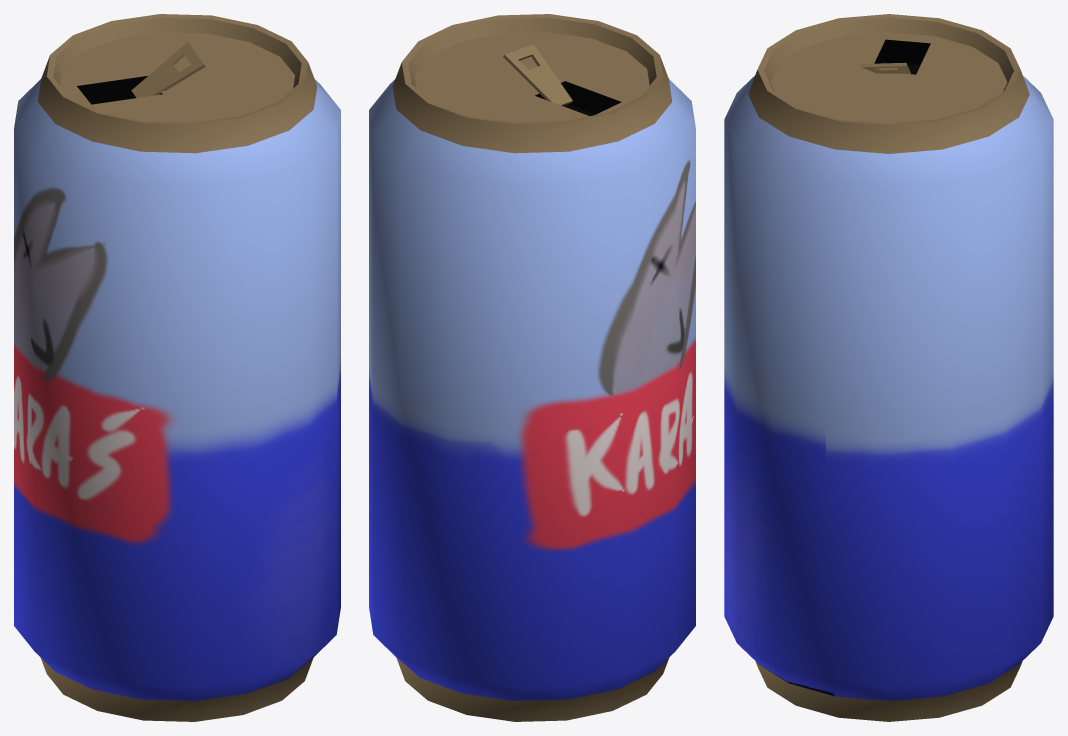
Rendered from speed.fbx.
3 renders of one model, left to right at view 1: azimuth 30°, elevation 25°; view 2: azimuth 150°, elevation 25°; view 3: azimuth 270°, elevation 25°, orthographic.
Parts seen in each view (by area): view 1: Cylinder; view 2: Cylinder; view 3: Cylinder.
Boxes of the visible parts, x1,y1,x2,y2 form: Cylinder: (14, 14, 340, 721); Cylinder: (369, 14, 695, 721); Cylinder: (724, 14, 1053, 721).
Size of the model in its own units: 40 by 82.18 by 40.
